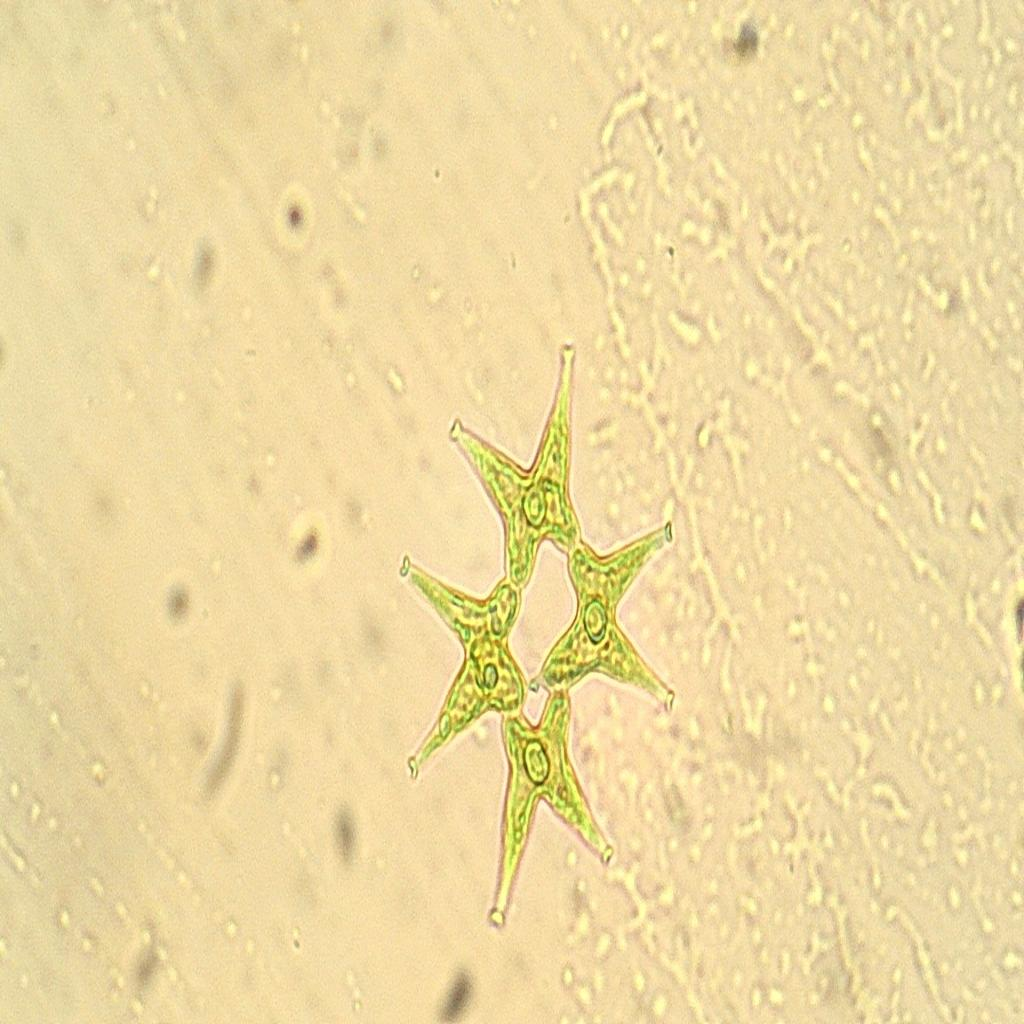Pediastrum_CF: (368, 326, 704, 958)
